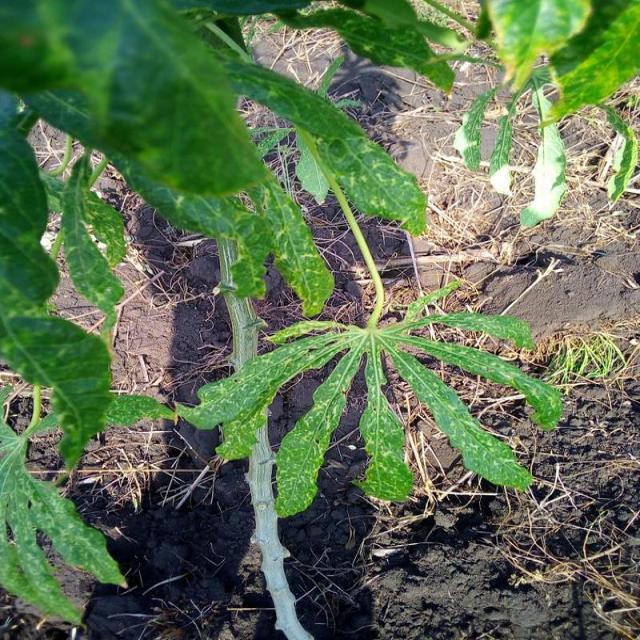cassava leaf: (0, 0, 335, 317)
